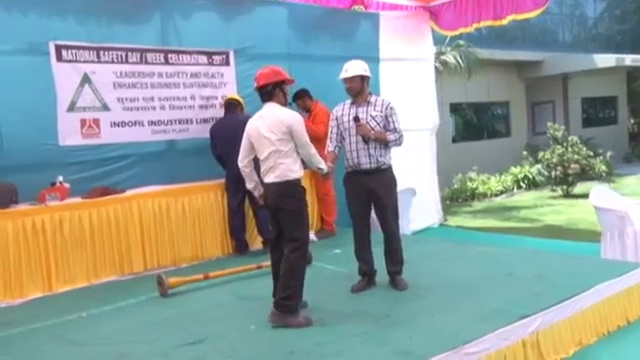helmet: (252, 65, 296, 91), (336, 57, 374, 80), (224, 93, 246, 111)
helmet_off: (290, 85, 317, 114)
helmet_on: (251, 64, 296, 110), (335, 56, 375, 106), (221, 91, 248, 116)
person: (238, 65, 328, 329), (323, 52, 412, 294), (208, 92, 273, 257), (290, 83, 341, 240)
